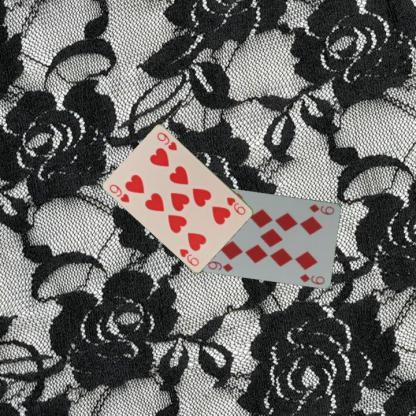9d: (206, 258, 235, 273), (306, 202, 336, 216)
9h: (107, 181, 131, 204), (224, 194, 247, 216)
